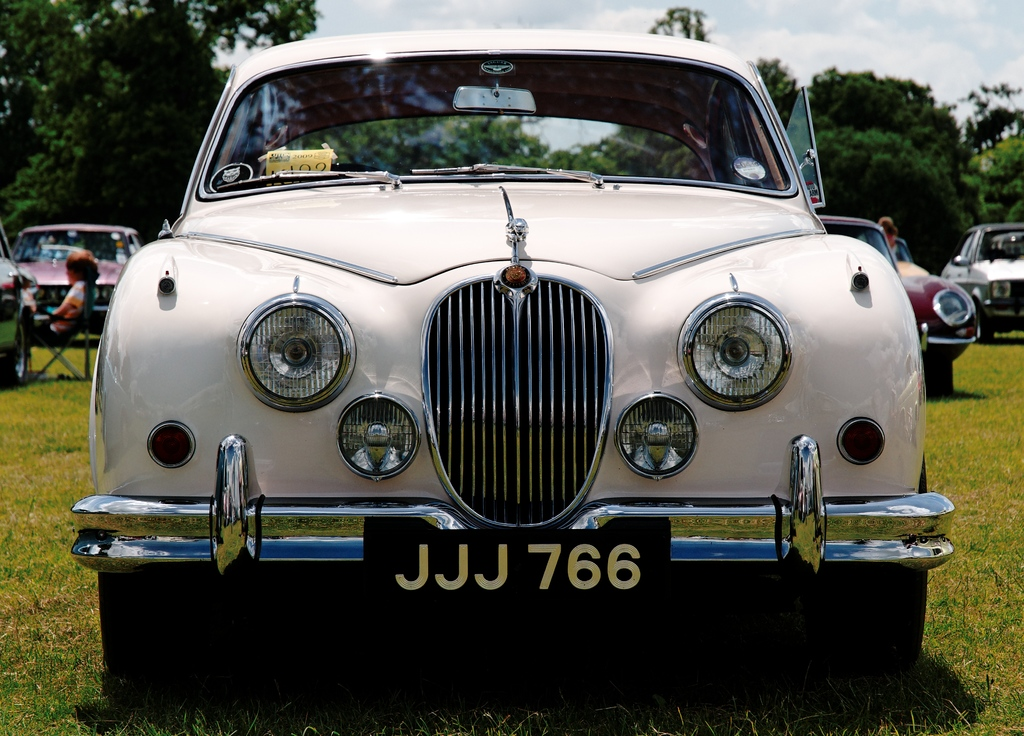Person: (16, 246, 104, 342), (874, 216, 910, 261)
